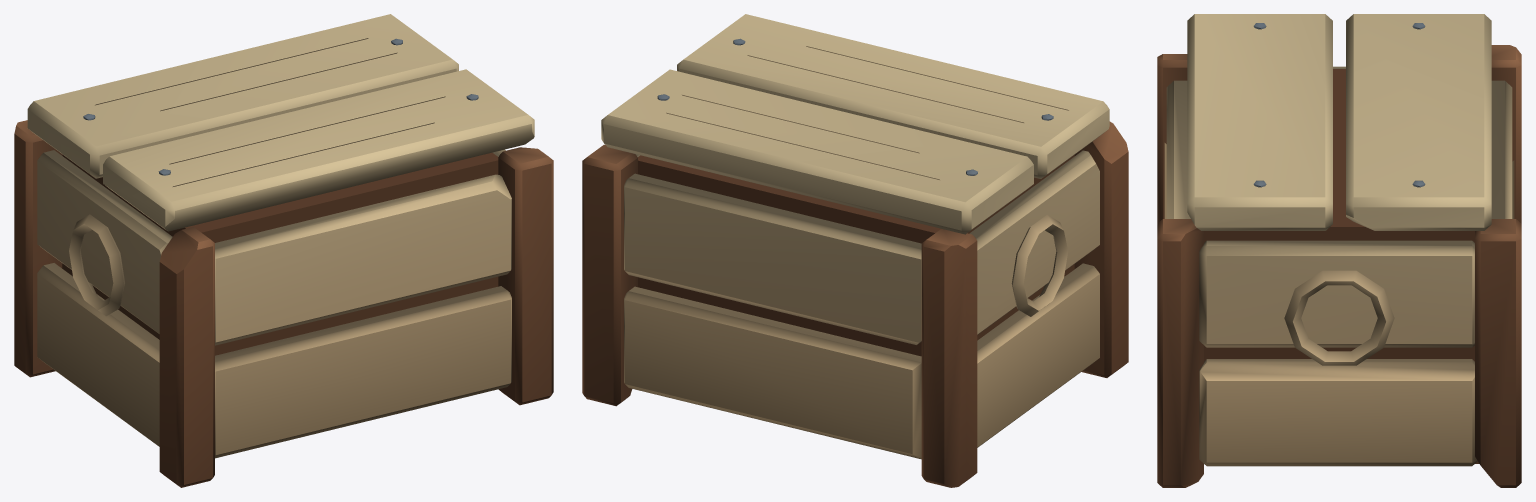
The model's file is drop-crate-v2.glb.
3 views of the same model, side by side, from view 1: azimuth 30°, elevation 25°; view 2: azimuth 150°, elevation 25°; view 3: azimuth 270°, elevation 25° (orthographic). The views are drawn at different scales.
Visible parts, largest first — view 1: 0_crate; view 2: 0_crate; view 3: 0_crate.
Boxes of the visible parts, x1=… form: 0_crate: x1=14, y1=14, x2=553, y2=487; 0_crate: x1=582, y1=14, x2=1128, y2=487; 0_crate: x1=1157, y1=14, x2=1521, y2=487.
Bounding box in the file's own units: 0.494 × 0.344 × 0.39.
